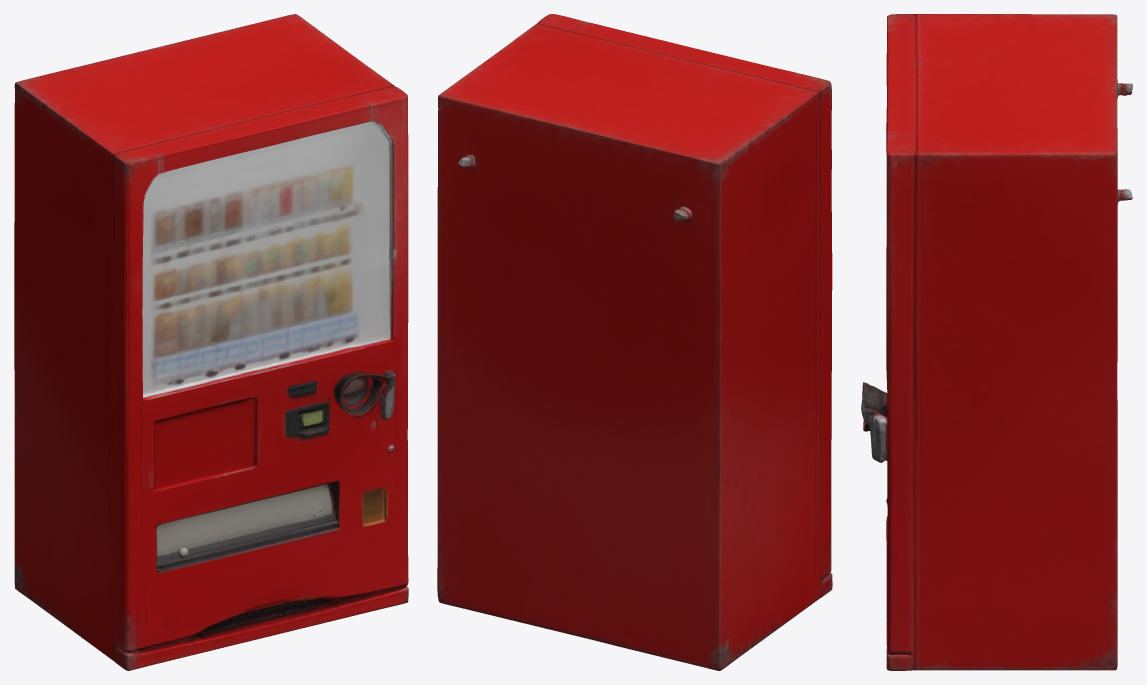
Rendered from vending.glb.
3 renders of one model, left to right at view 1: azimuth 30°, elevation 25°; view 2: azimuth 150°, elevation 25°; view 3: azimuth 270°, elevation 25°, orthographic.
Parts seen in each view (by area): view 1: world; view 2: world; view 3: world.
Boxes of the visible parts, x1,y1,x2,y2 form: world: (14,14,408,670); world: (437,14,832,670); world: (861,14,1132,670).
Size of the model in its own units: 0.5889 by 1 by 0.4767.
1 material, 1 textured.
